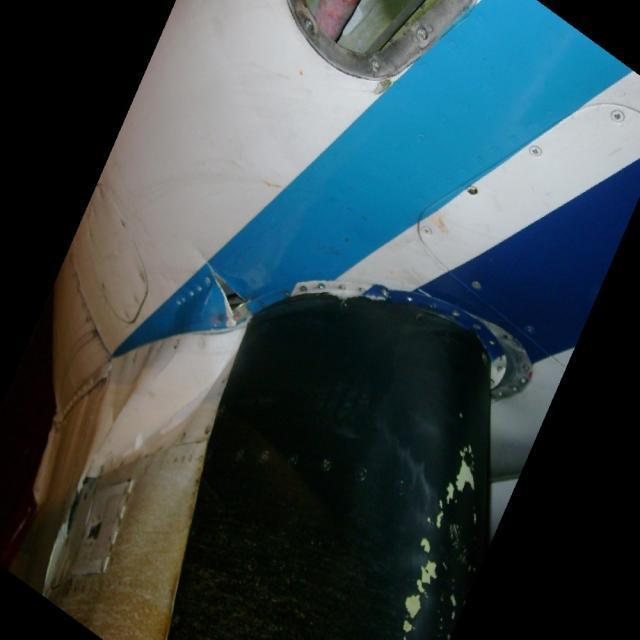crack: (207, 268, 254, 329)
